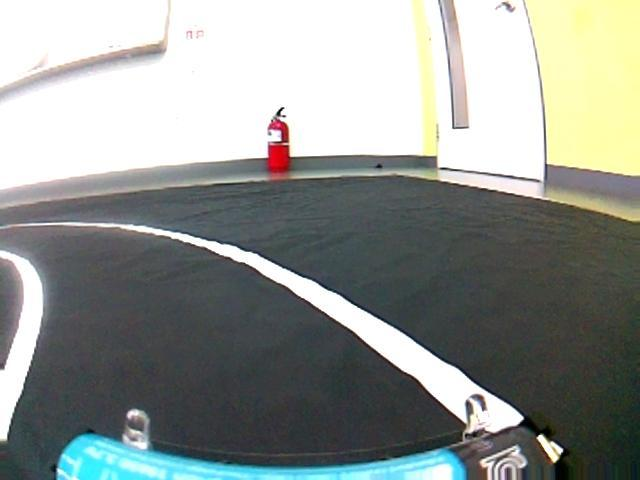left: (0, 184, 600, 479)
